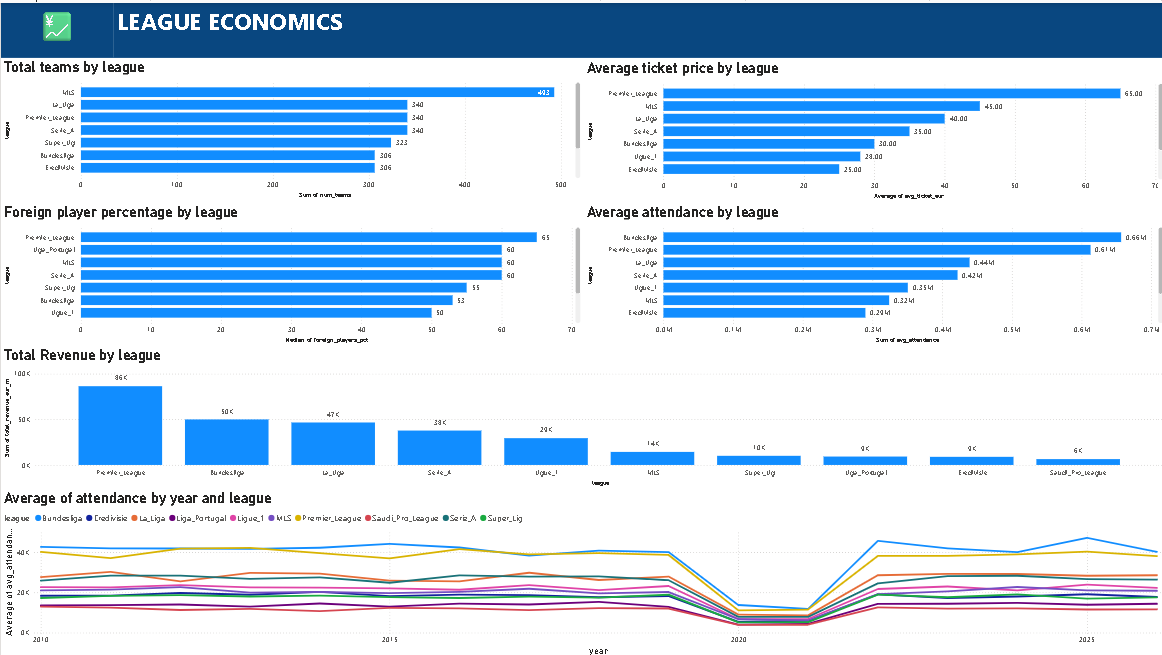

The dashboard page shown, as its layout file describes it:
{"tool":"powerbi","page":{"name":" League Economics","canvas":[1280,1500],"ordinal":2},"visuals":[{"type":"textbox","box":[10,0,1270,90],"z":0},{"type":"clusteredBarChart","title":"Total teams by league","fields":{"Category":["league_metrics.league"],"Y":["Sum(league_metrics.num_teams)"]},"box":[0,90,640,345],"z":1000},{"type":"clusteredBarChart","title":"Average attendance by league","fields":{"Category":["league_metrics.league"],"Y":["Sum(league_metrics.avg_attendance)"]},"box":[640,90,640,345],"z":2000},{"type":"clusteredBarChart","title":"Foreign player percentage by league","fields":{"Category":["league_metrics.league"],"Y":["Median(league_metrics.foreign_players_pct)"]},"box":[0,445,640,345],"z":3000},{"type":"clusteredBarChart","title":"Average ticket price by league","fields":{"Category":["league_metrics.league"],"Y":["Avg(league_metrics.avg_ticket_eur)"]},"box":[640,435,640,345],"z":4000},{"type":"clusteredColumnChart","title":"Total Revenue by league","fields":{"Category":["league_metrics.league"],"Y":["Sum(league_metrics.total_revenue_eur_m)"]},"box":[0,790,1280,301.7],"z":5000},{"type":"lineChart","title":"Average of attendance by year and league","fields":{"Category":["league_metrics.year"],"Y":["Avg(league_metrics.avg_attendance)"],"Series":["league_metrics.league"]},"box":[0,1101.7,1280,398.3],"z":6000}]}

Visuals, with their boxes on the page's 1280x1500 design canvas (x1, y1, x2, y2). These are canvas units, not pixel positions in the 1162x655 screenshot, which may show the page scaled, cropped or inside an application window:
textbox: <bbox>10, 0, 1280, 90</bbox>
"Total teams by league" clusteredBarChart: <bbox>0, 90, 640, 435</bbox>
"Average attendance by league" clusteredBarChart: <bbox>640, 90, 1280, 435</bbox>
"Foreign player percentage by league" clusteredBarChart: <bbox>0, 445, 640, 790</bbox>
"Average ticket price by league" clusteredBarChart: <bbox>640, 435, 1280, 780</bbox>
"Total Revenue by league" clusteredColumnChart: <bbox>0, 790, 1280, 1092</bbox>
"Average of attendance by year and league" lineChart: <bbox>0, 1102, 1280, 1500</bbox>
